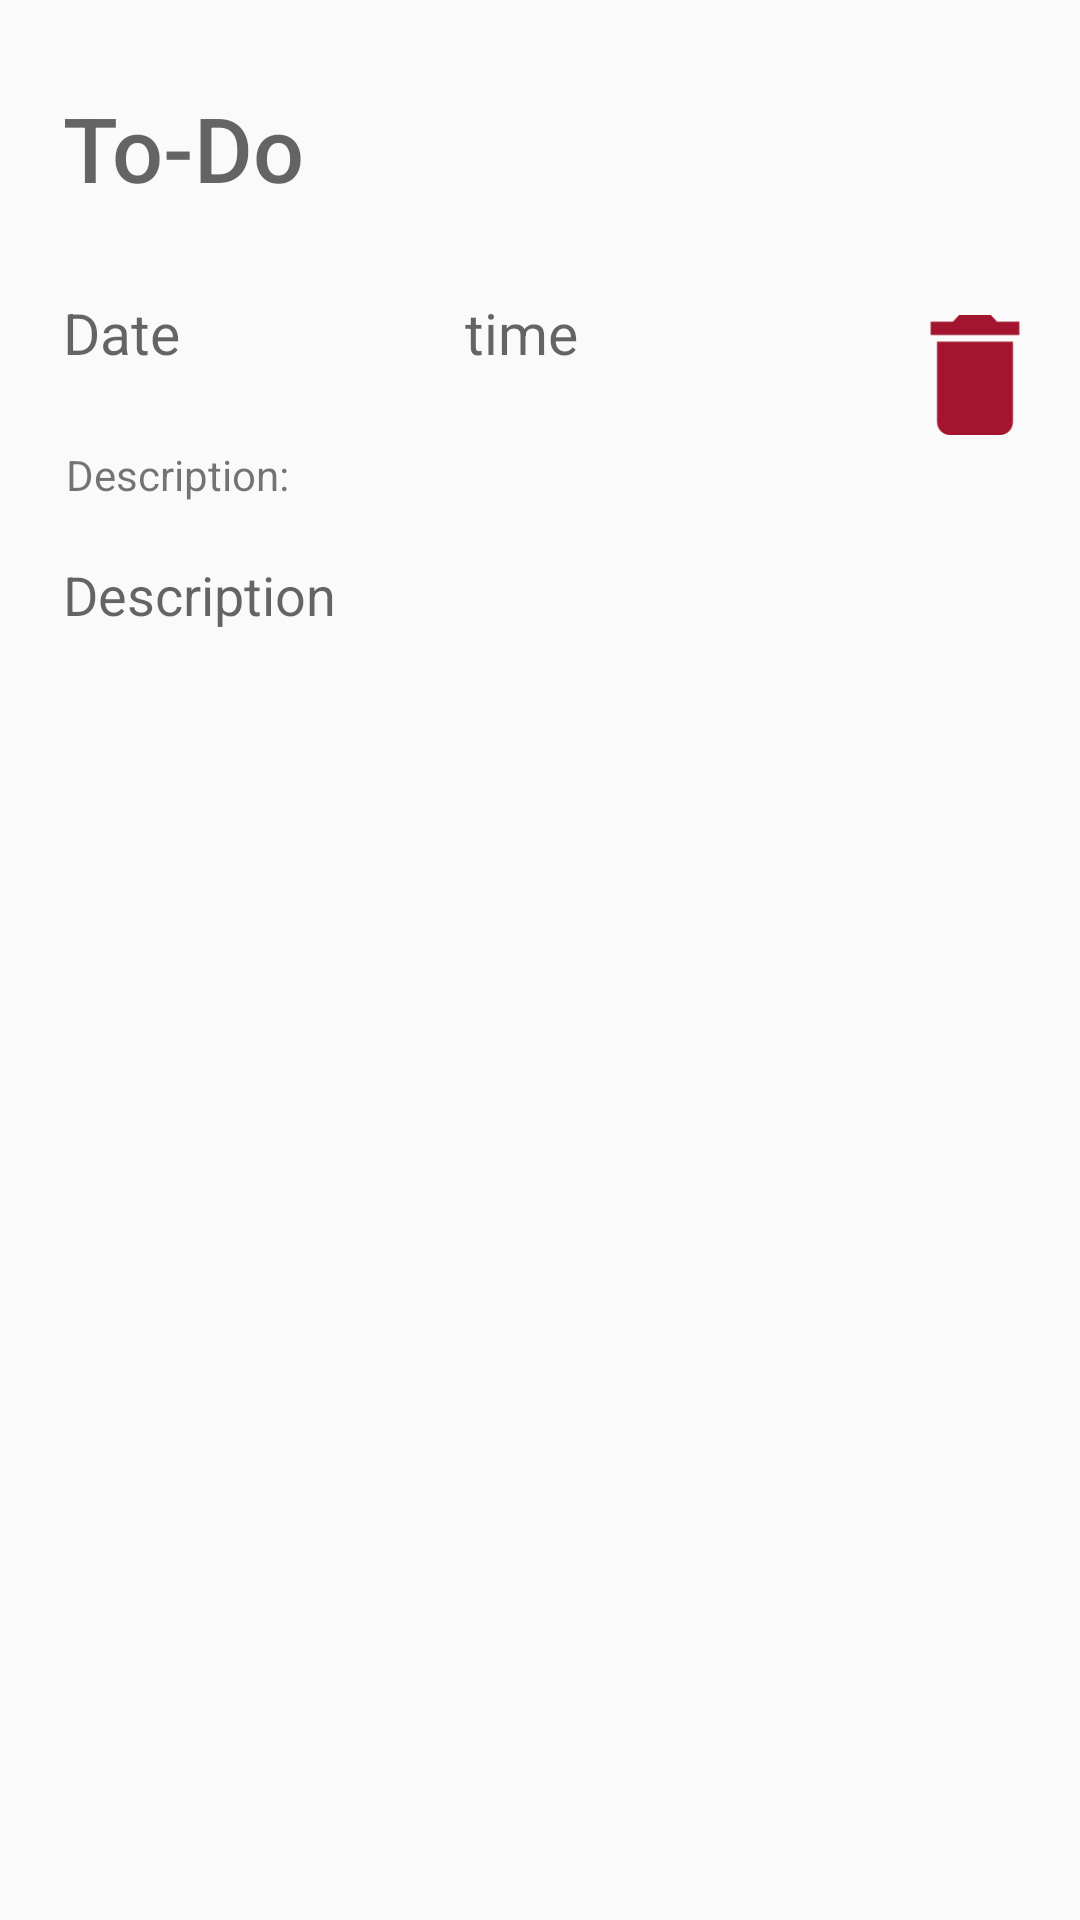

Icon click points for this 1080w x 1920h phone screenshot, format (x,y):
del: (975,375)
